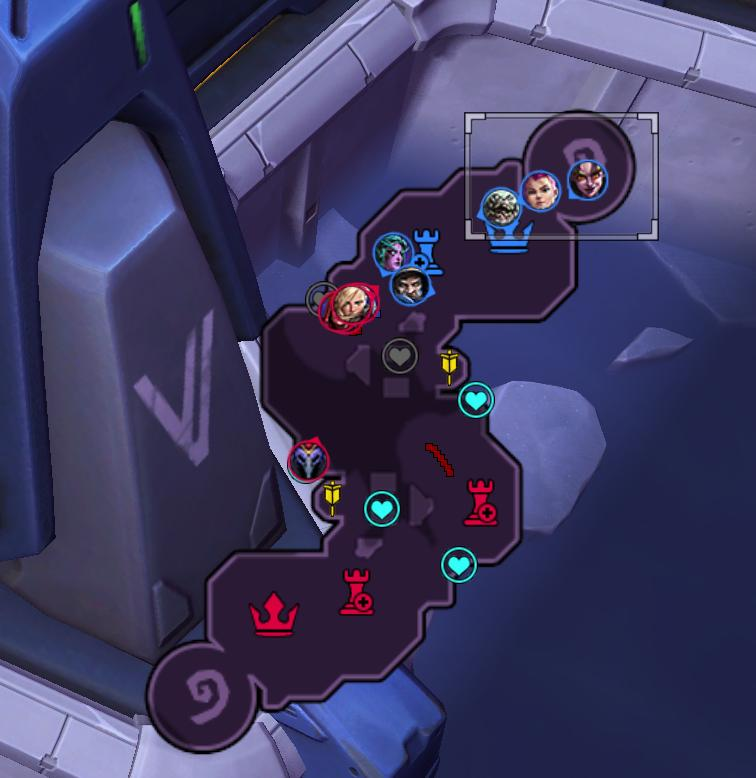blue player: (519, 170, 561, 212), (389, 266, 432, 307), (372, 232, 412, 276), (568, 159, 607, 200)
red player: (319, 282, 380, 334), (286, 434, 333, 483)
